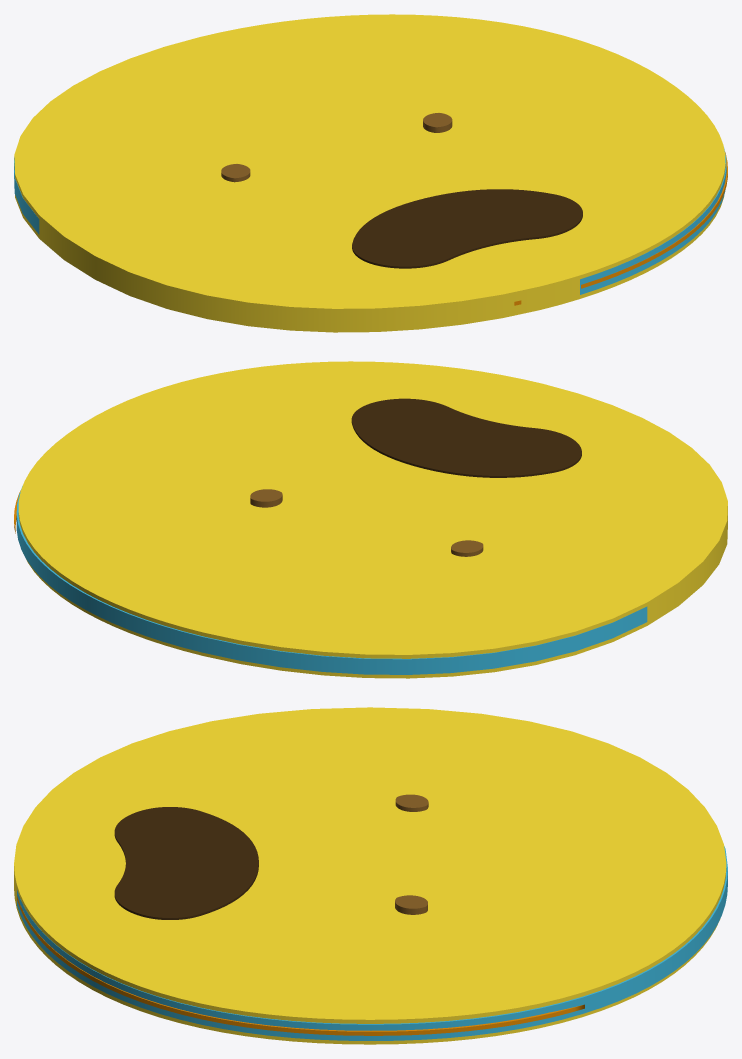
The model's file is emoji_u1f628.glb.
3 renders of one model, top to bottom at view 1: azimuth 30°, elevation 25°; view 2: azimuth 150°, elevation 25°; view 3: azimuth 270°, elevation 25°, orthographic. The views are drawn at different scales.
Parts seen in each view (by area): view 1: emoji_u1f628; view 2: emoji_u1f628; view 3: emoji_u1f628.
Part boxes in pixels (left/top/right/bottom): emoji_u1f628: left=14, top=14, right=727, bottom=332; emoji_u1f628: left=14, top=361, right=727, bottom=678; emoji_u1f628: left=14, top=707, right=727, bottom=1044.
Bounding box in the file's own units: 0.0327 × 0.0018 × 0.0315.
